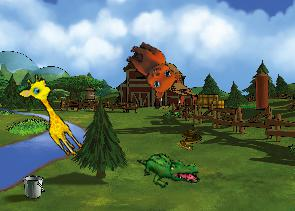bear: (116, 37, 186, 102)
crocodile: (136, 147, 201, 192)
giraffe: (14, 70, 93, 160)
